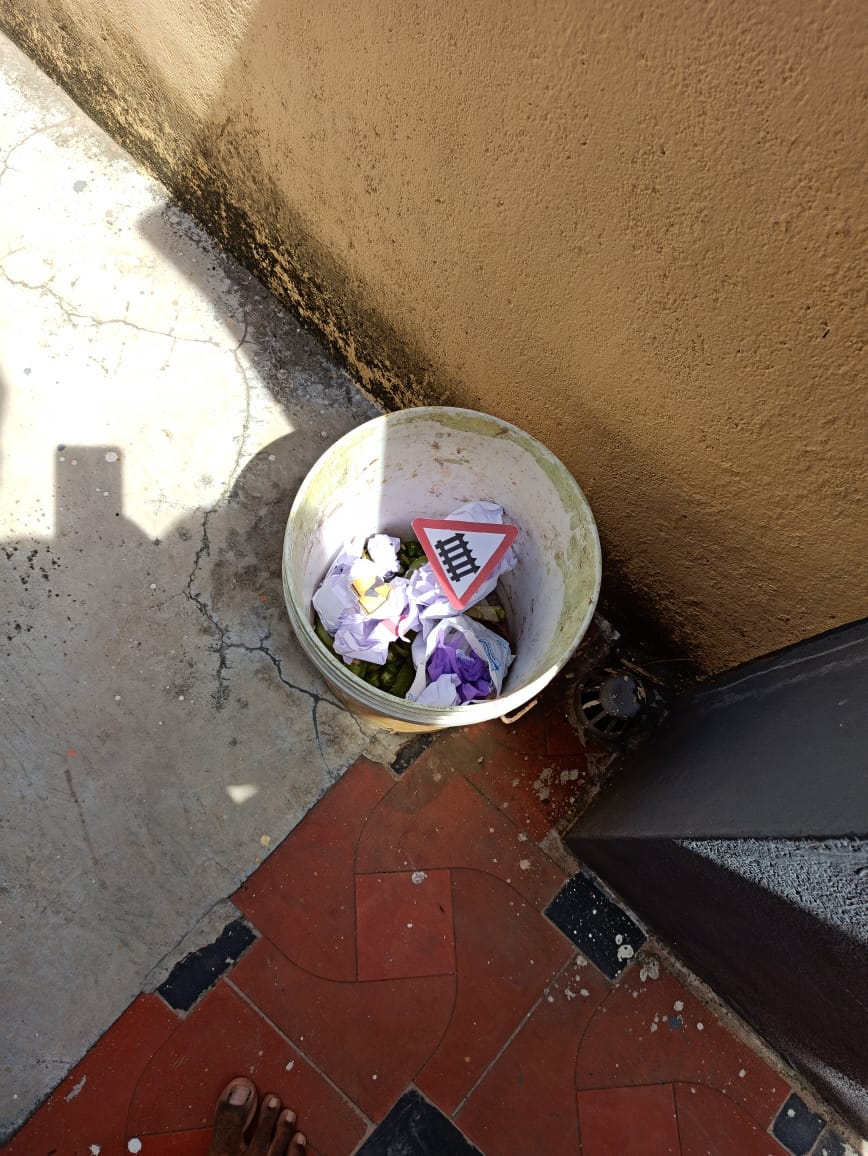GUARDED LEVEL CROSSING: (403, 492, 516, 600)
